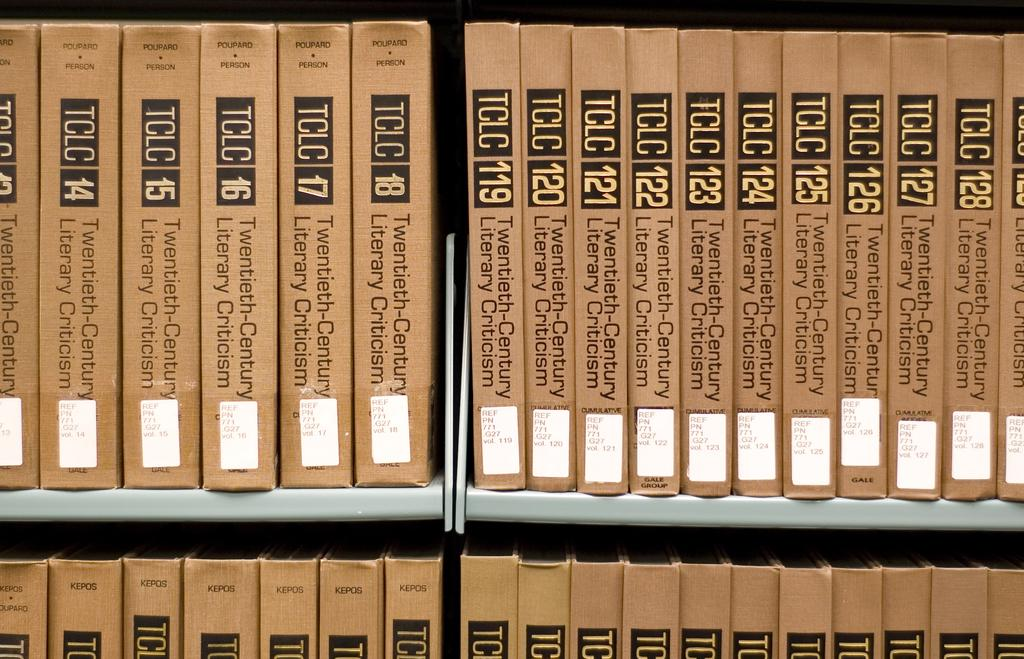Book: (461, 19, 1023, 498), (0, 19, 444, 492), (455, 542, 1023, 658), (0, 528, 447, 658)
